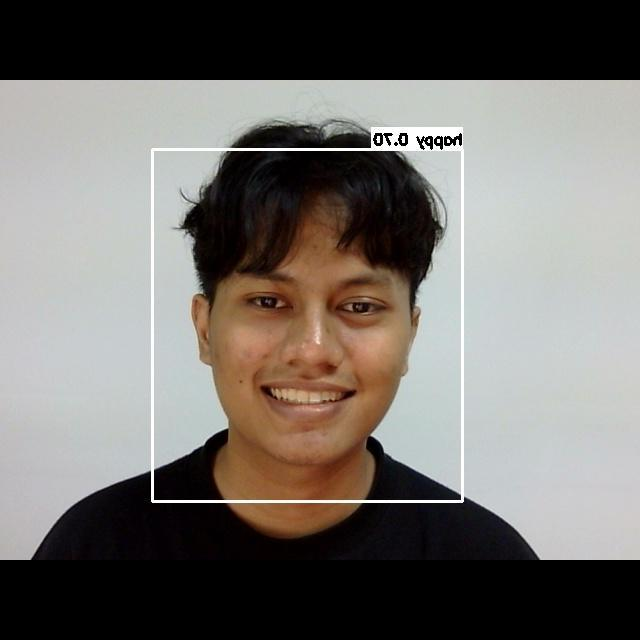Happy: (204, 248, 401, 446)
